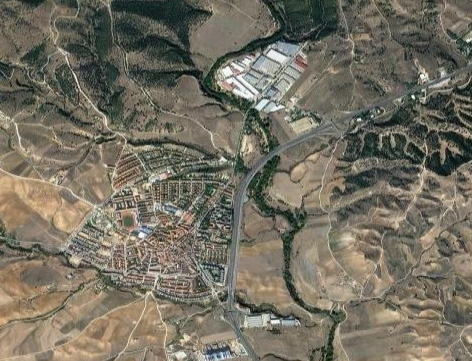industrial: (219, 39, 302, 108)
motorway: (315, 62, 468, 147), (213, 120, 337, 196), (212, 193, 266, 361)
